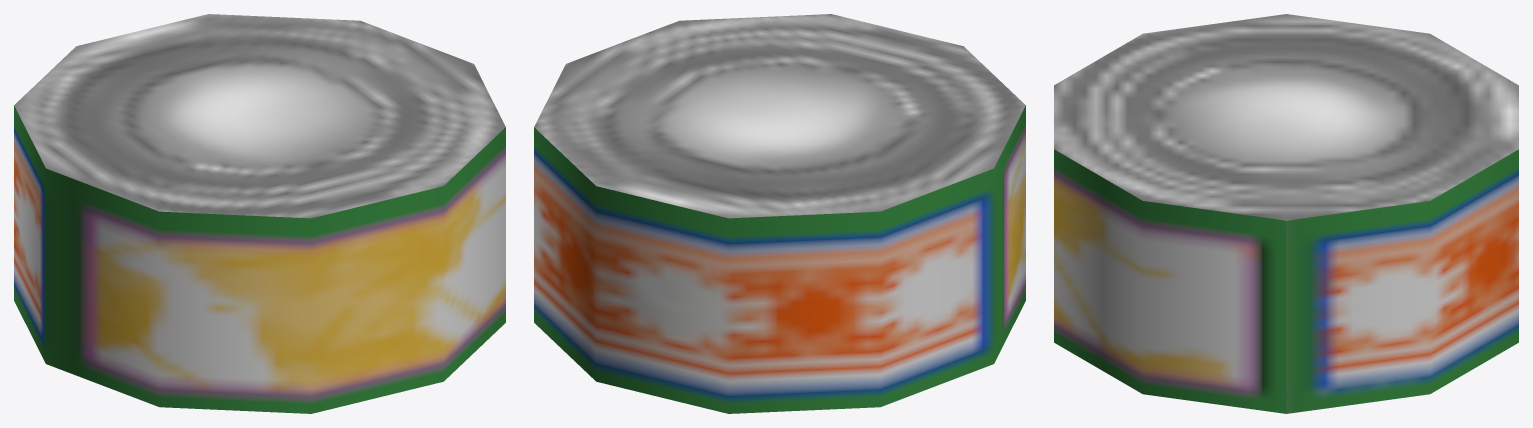
The model's file is giftgoods084c.fbx.
3 views of the same model, side by side, from view 1: azimuth 30°, elevation 25°; view 2: azimuth 150°, elevation 25°; view 3: azimuth 270°, elevation 25° (orthographic).
Visible parts, largest first — view 1: giftgoods084c; view 2: giftgoods084c; view 3: giftgoods084c.
Boxes of the visible parts, x1,y1,x2,y2 form: giftgoods084c: (14,14,505,413); giftgoods084c: (534,14,1025,413); giftgoods084c: (1054,14,1518,413).
Bounding box in the file's own units: 0.1255 × 0.0548 × 0.1193.
